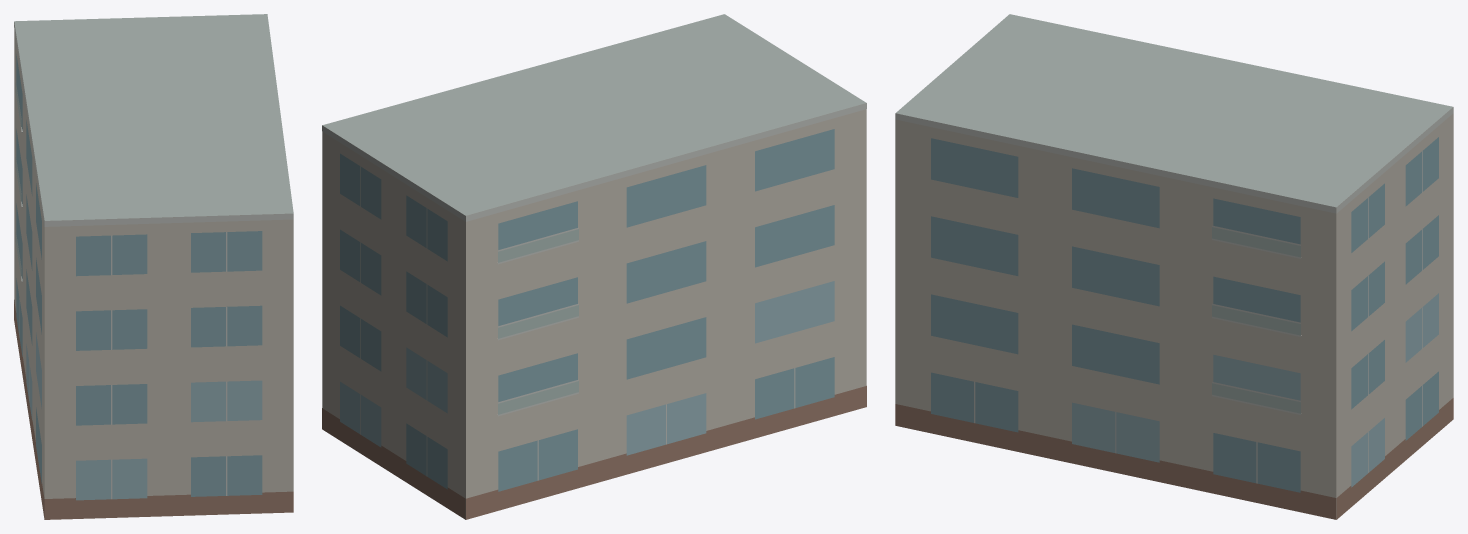
The model's file is survey-upis-32974594.glb.
The picture shows the model from 3 angles, left to right: view 1: azimuth 30°, elevation 25°; view 2: azimuth 150°, elevation 25°; view 3: azimuth 270°, elevation 25°; orthographic projection. The views are drawn at different scales.
Parts seen in each view (by area): view 1: survey-upis-32974594.tmp; view 2: survey-upis-32974594.tmp; view 3: survey-upis-32974594.tmp.
Boxes of the visible parts, x1,y1,x2,y2 form: survey-upis-32974594.tmp: (14,14,293,519); survey-upis-32974594.tmp: (322,14,866,519); survey-upis-32974594.tmp: (895,14,1453,519).
Bounding box in the file's own units: 16.2 × 12.2 × 19.76.
